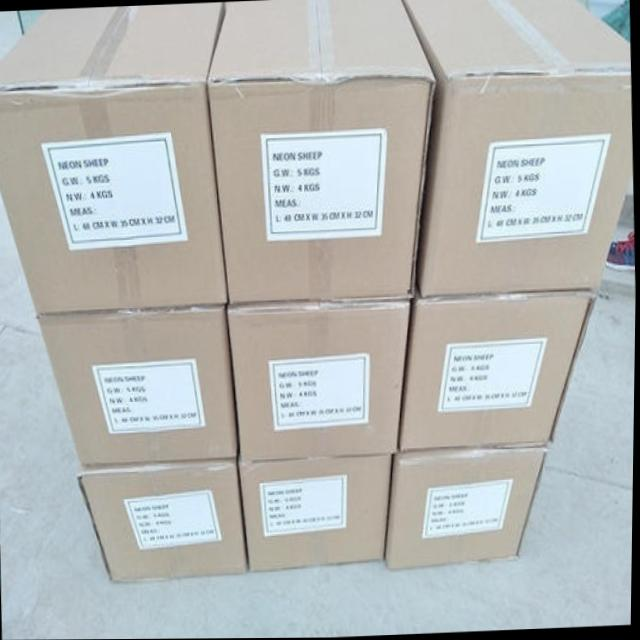box: (205, 0, 435, 304), (0, 9, 228, 315), (403, 0, 632, 297), (399, 280, 596, 451), (40, 307, 242, 467), (226, 302, 412, 458), (77, 459, 247, 582), (387, 447, 548, 565), (240, 454, 394, 573)
